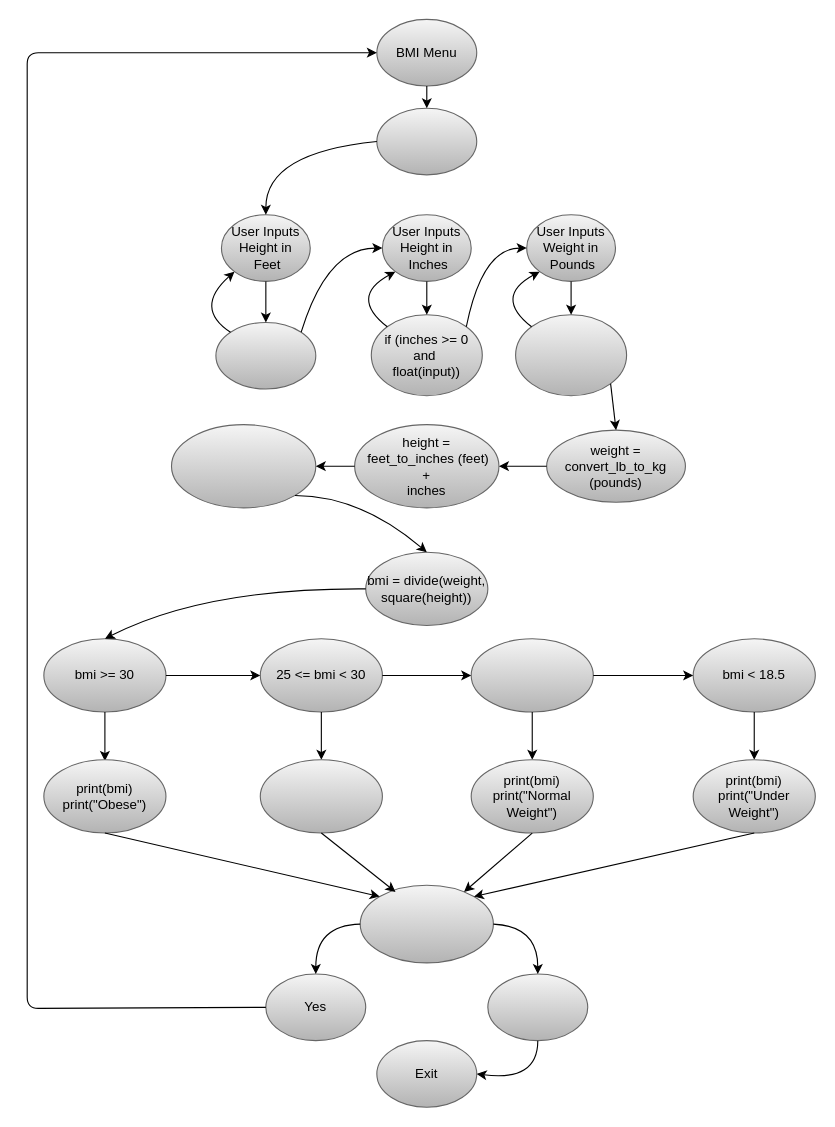
This 835x1127 diagram has some shape labels left out. The shapes that lost their labels are listed below. From the top down, each one's centre as x and y in pixels, then its label:
point 426,141: Obtain User Input
point 265,355: if (feet > 0 and float(input))
point 570,355: if (weight > 0 and float(input))
point 243,465: height = convert_inch_meters (height)
point 531,675: 18.5 <= bmi < 25
point 320,796: print(bmi) print("Overweight")
point 426,923: Ask User If He / She wants to compute another BMI
point 537,1007: No
